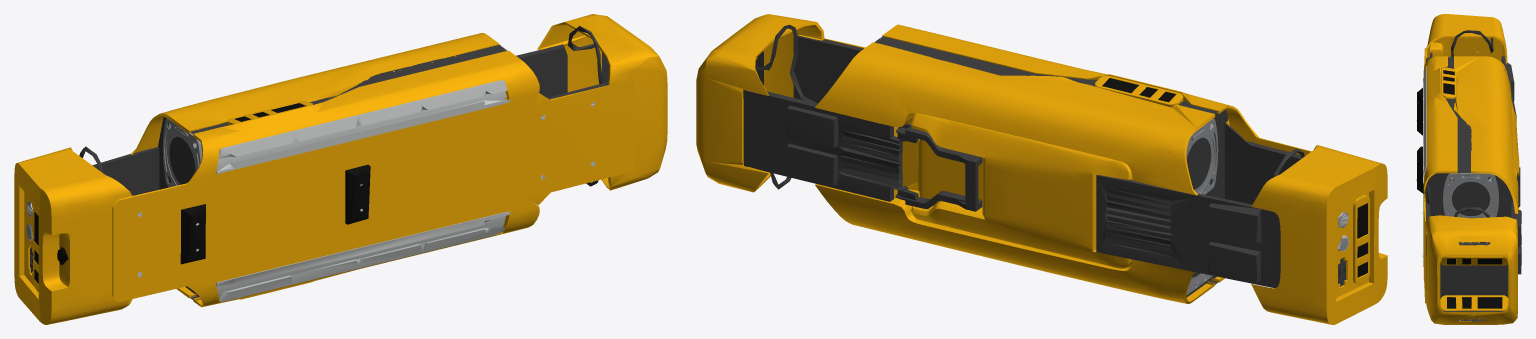
The picture shows the model from 3 angles, left to right: view 1: azimuth 30°, elevation 25°; view 2: azimuth 150°, elevation 25°; view 3: azimuth 270°, elevation 25°; orthographic projection. The views are drawn at different scales.
Parts seen in each view (by area): view 1: base_link; view 2: base_link; view 3: base_link.
Boxes of the visible parts, x1,y1,x2,y2 form: base_link: (14,14,667,324); base_link: (696,14,1387,324); base_link: (1416,14,1521,324).
Bounding box in the file's own units: 0.6725 × 0.1835 × 0.1348.
